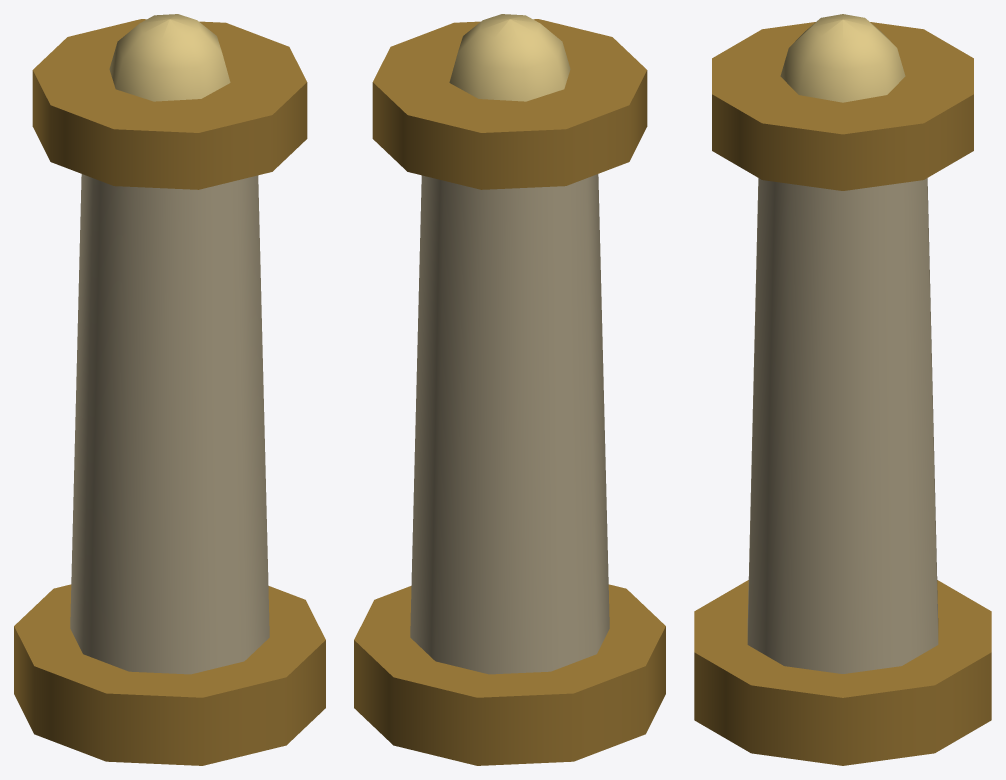
The model's file is palace_f_pedestal_column.glb.
3 views of the same model, side by side, from view 1: azimuth 30°, elevation 25°; view 2: azimuth 150°, elevation 25°; view 3: azimuth 270°, elevation 25° (orthographic).
Visible parts, largest first — view 1: sw5e_int_palace_f_pedestal_column; view 2: sw5e_int_palace_f_pedestal_column; view 3: sw5e_int_palace_f_pedestal_column.
Part boxes in pixels (bbox=[...]): sw5e_int_palace_f_pedestal_column: bbox=[14, 14, 325, 765]; sw5e_int_palace_f_pedestal_column: bbox=[354, 14, 665, 765]; sw5e_int_palace_f_pedestal_column: bbox=[694, 14, 991, 765].
Bounding box in the file's own units: 0.5 × 1.2 × 0.4755.
